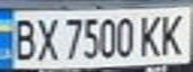0: (115, 14, 139, 58), (97, 15, 118, 60)
5: (81, 15, 100, 61)
7: (60, 15, 84, 61)
B: (9, 15, 39, 62)
K: (154, 10, 190, 56), (136, 11, 166, 57)
X: (33, 14, 60, 62)
